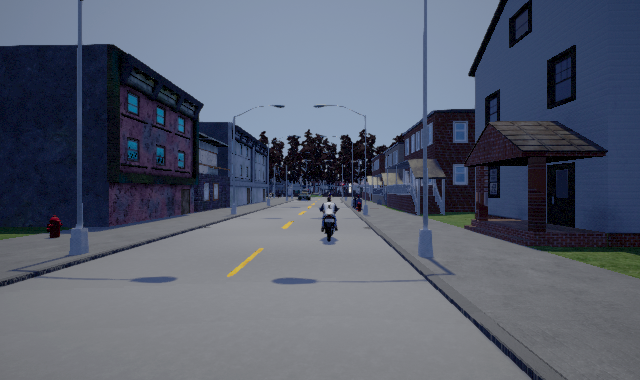motobike: (318, 195, 342, 243)
